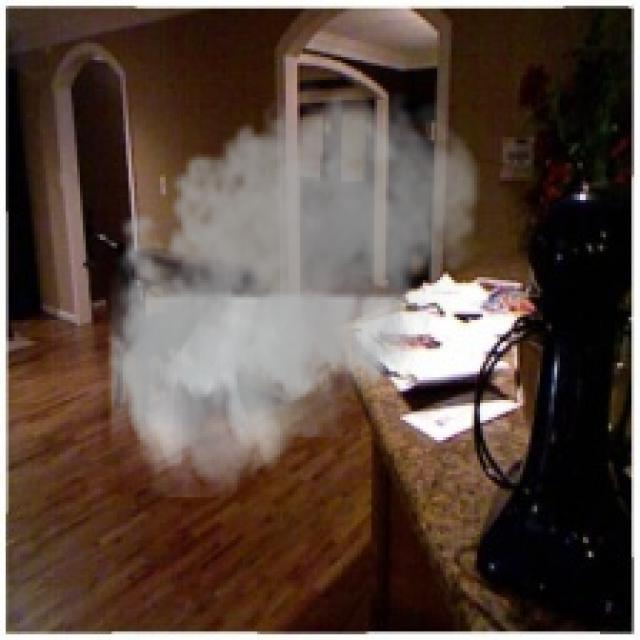Smoke: (94, 72, 489, 497)
